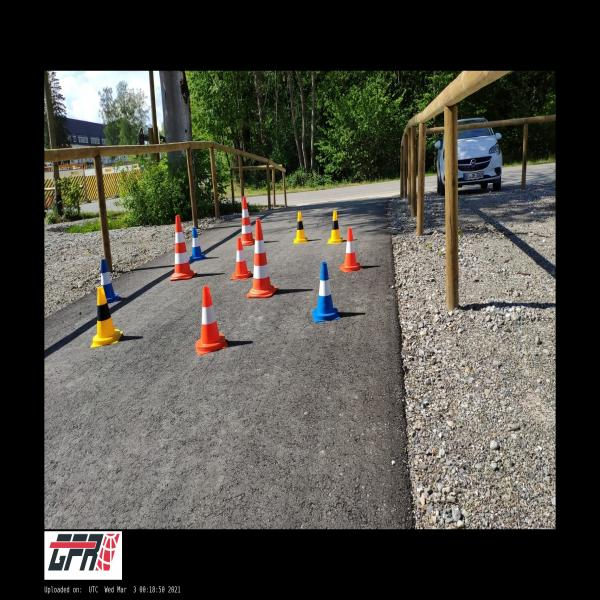blue_cone: (312, 262, 340, 322), (101, 259, 119, 303), (190, 228, 206, 262)
large_orange_cone: (246, 219, 278, 298), (170, 215, 196, 280), (240, 197, 255, 245)
orange_cone: (196, 286, 227, 355), (338, 228, 362, 272), (230, 238, 253, 279)
yellow_cone: (91, 286, 123, 347), (326, 210, 344, 244), (294, 211, 308, 243)
